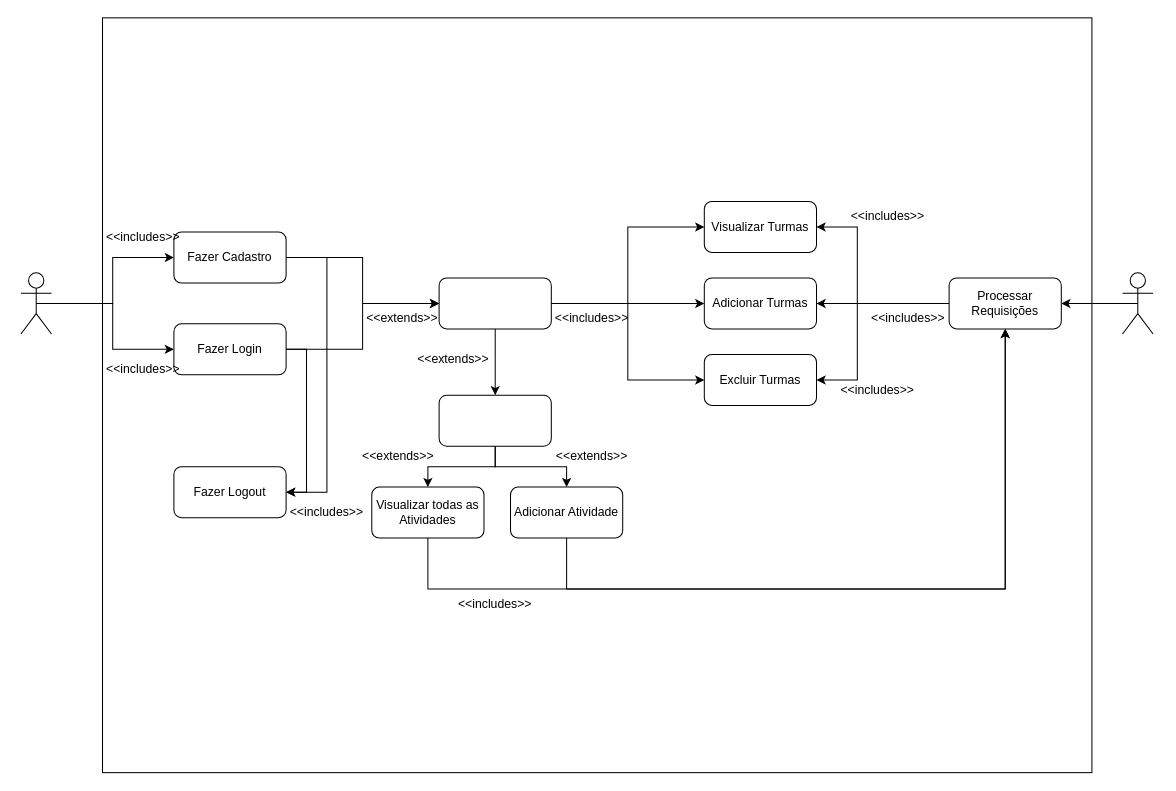
Image size: 1176x791. Some labels were removed from this diagram. The centre of each missing label's shape, as x and y in pixels:
Cliente: point (36, 303)
Gerenciar Atividades de Turma: point (494, 420)
Gerenciar Turmas: point (494, 303)
Serviço: point (1137, 303)
